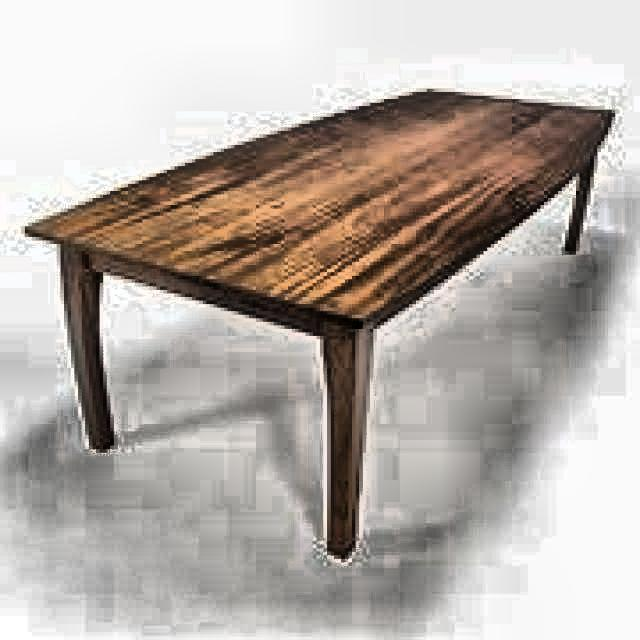mesa: (17, 79, 614, 554)
